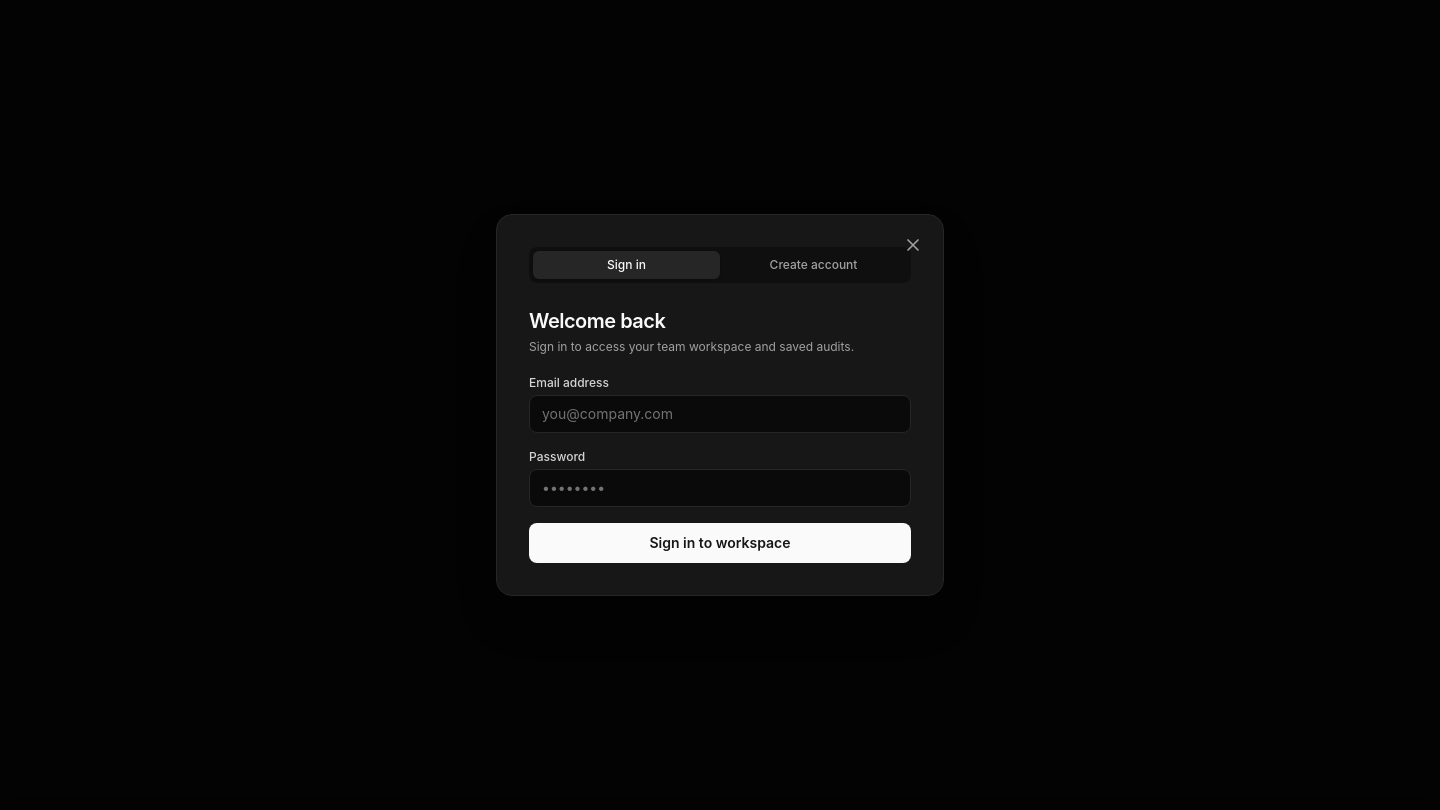
Auth Configuration in UI › does NOT show 'Authentication is not configured.' when Supabase is configured
The image size is (1440, 810).
Step 1. Type "user@example.com" into the field labelled "Email address" → (720, 414), box top-left (529, 395), bottom-right (911, 433)
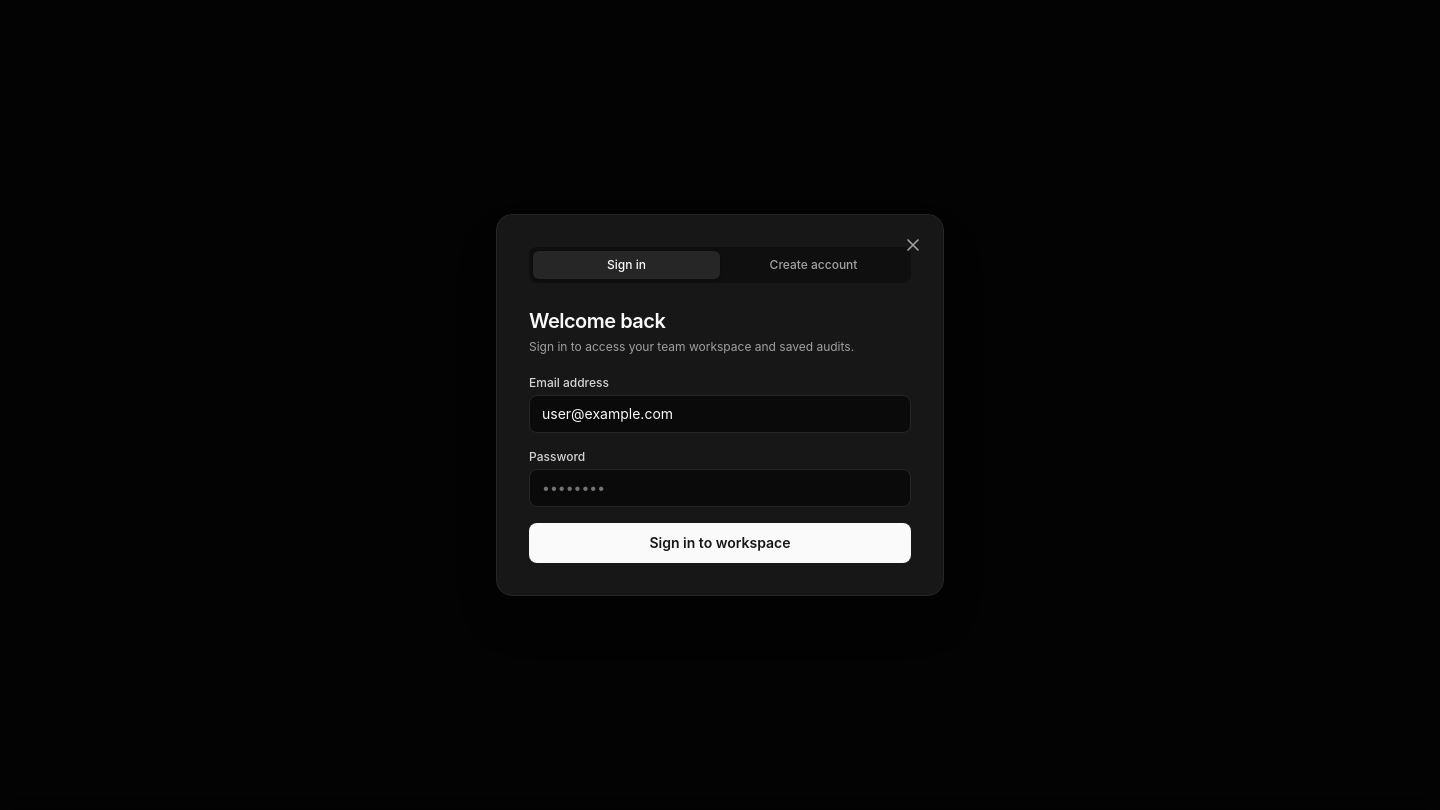
Step 2. Type "password123" into the password field labelled "Password" → (720, 488), box top-left (529, 469), bottom-right (911, 507)
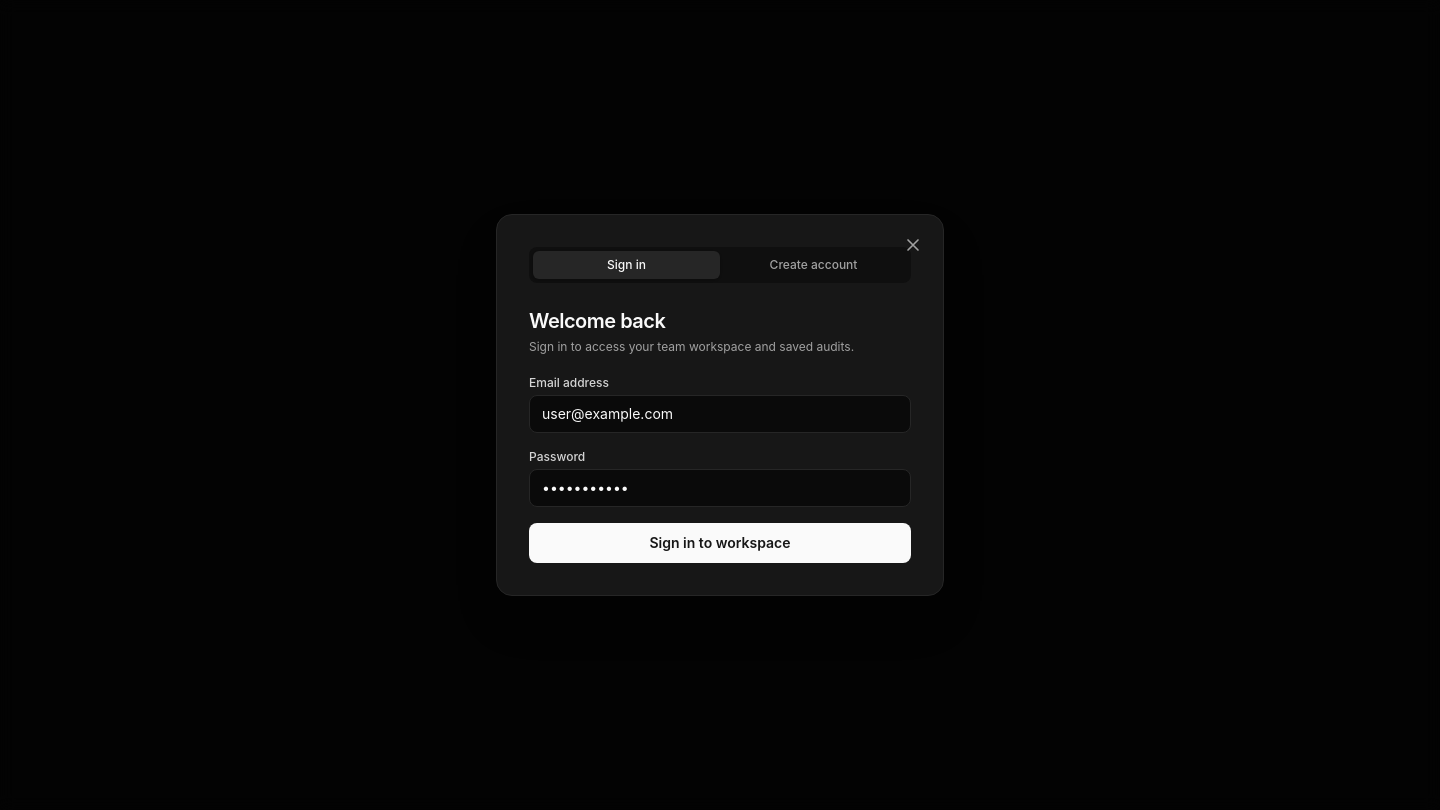
Step 3. Click the button "Sign in to workspace" → (720, 543), box top-left (529, 523), bottom-right (911, 563)
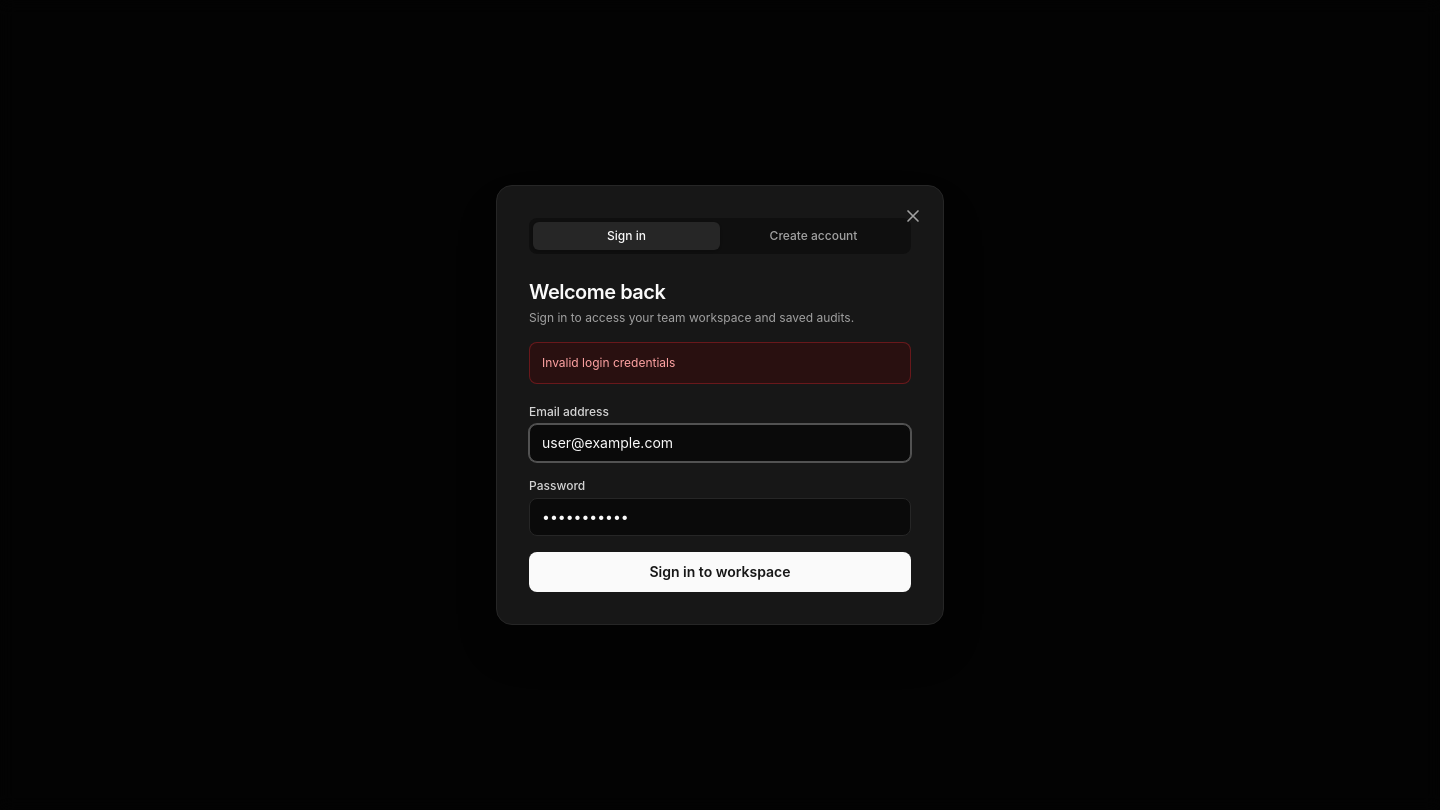
Now the message reads "Invalid login credentials", box top-left (542, 355), bottom-right (675, 370)
